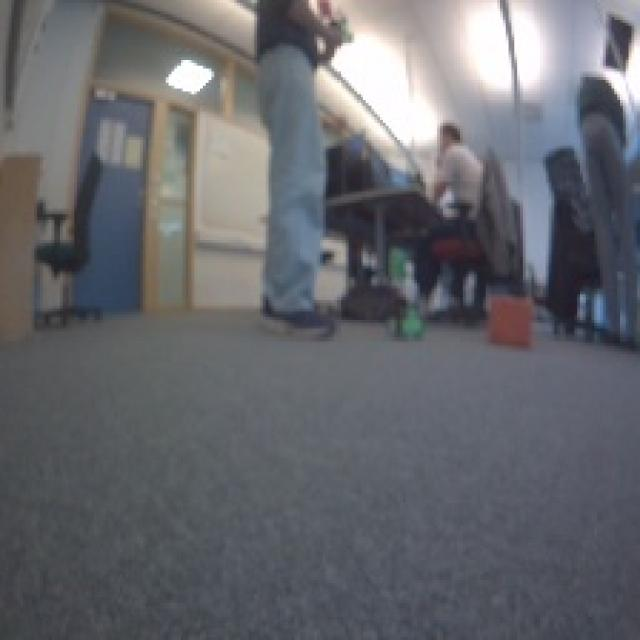robot: (383, 292, 433, 340)
target: (486, 291, 534, 346)
